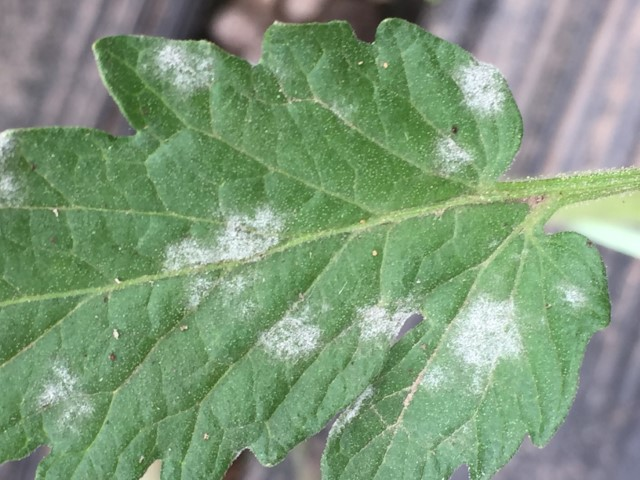oidio: (162, 205, 283, 310), (451, 293, 525, 395), (257, 299, 325, 365), (141, 38, 218, 96), (38, 359, 97, 434), (351, 294, 419, 344), (449, 57, 506, 116), (328, 384, 376, 437), (1, 129, 32, 208), (432, 136, 474, 180), (326, 95, 361, 126), (418, 364, 450, 394), (555, 281, 588, 310)
